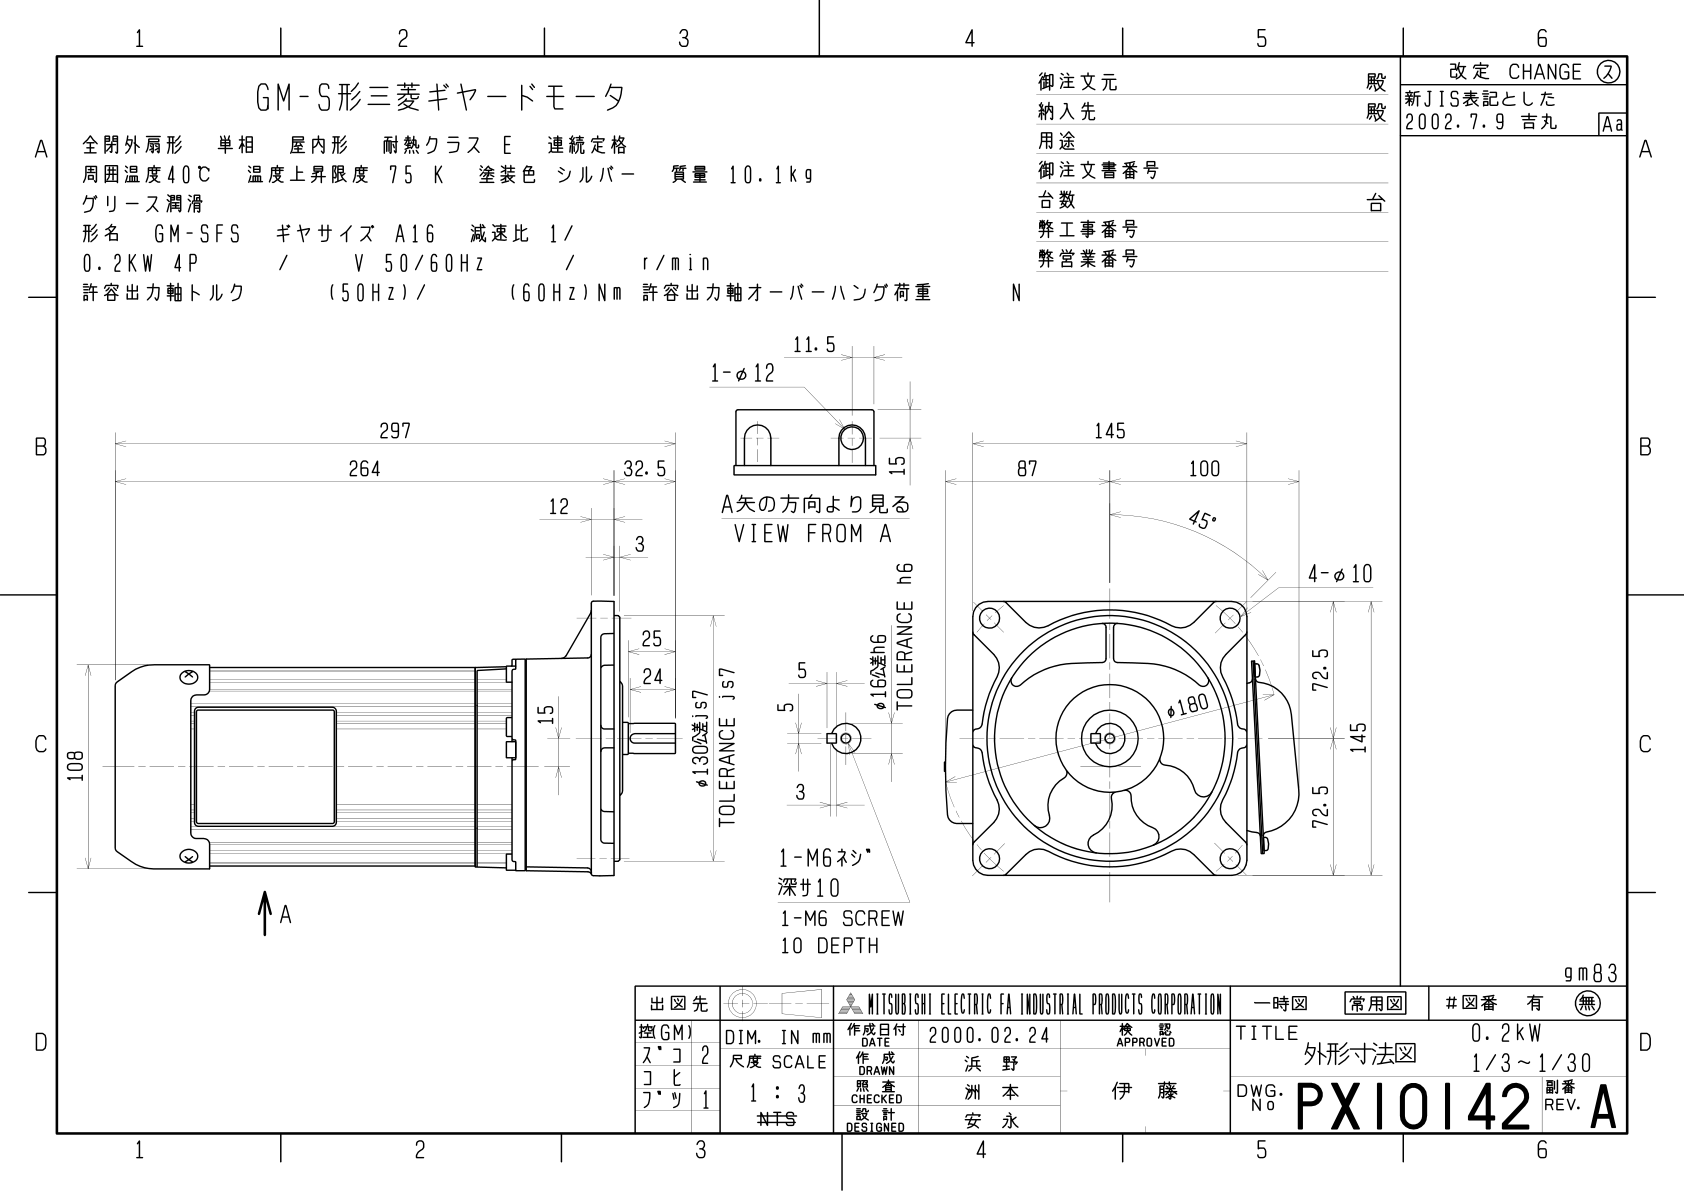GM_S_屋内＿単相_フランジ: (58, 327, 1407, 973)
